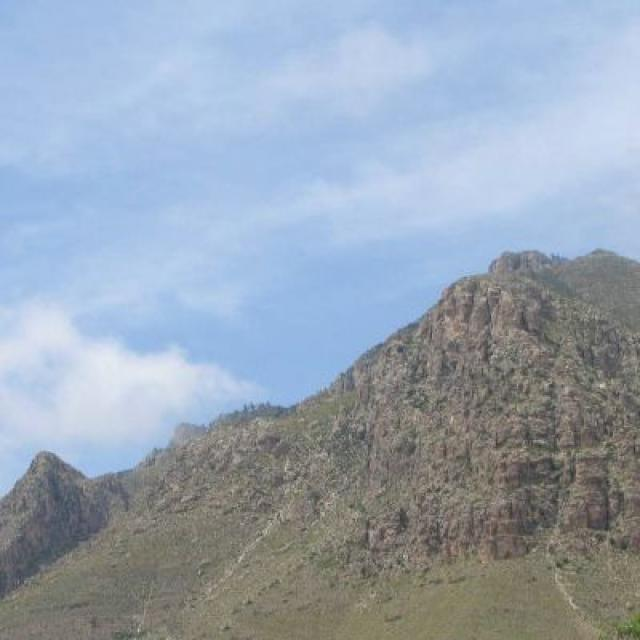Cs: (1, 1, 455, 268)
